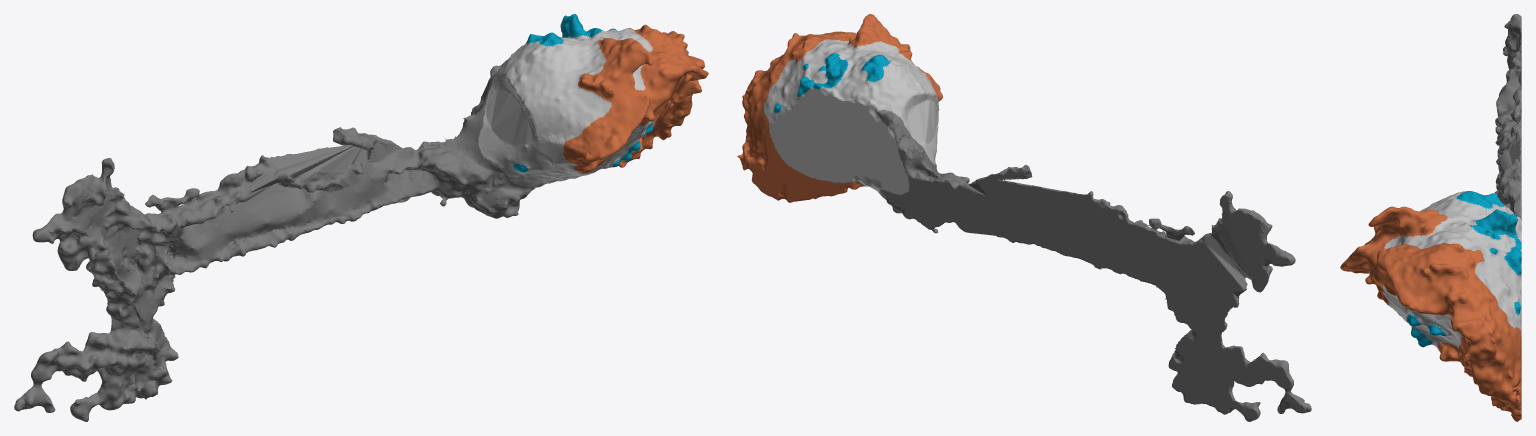
3 renders of one model, left to right at view 1: azimuth 30°, elevation 25°; view 2: azimuth 150°, elevation 25°; view 3: azimuth 270°, elevation 25°, orthographic. The views are drawn at different scales.
Size of the model in its own units: 383 by 167 by 86.84.
